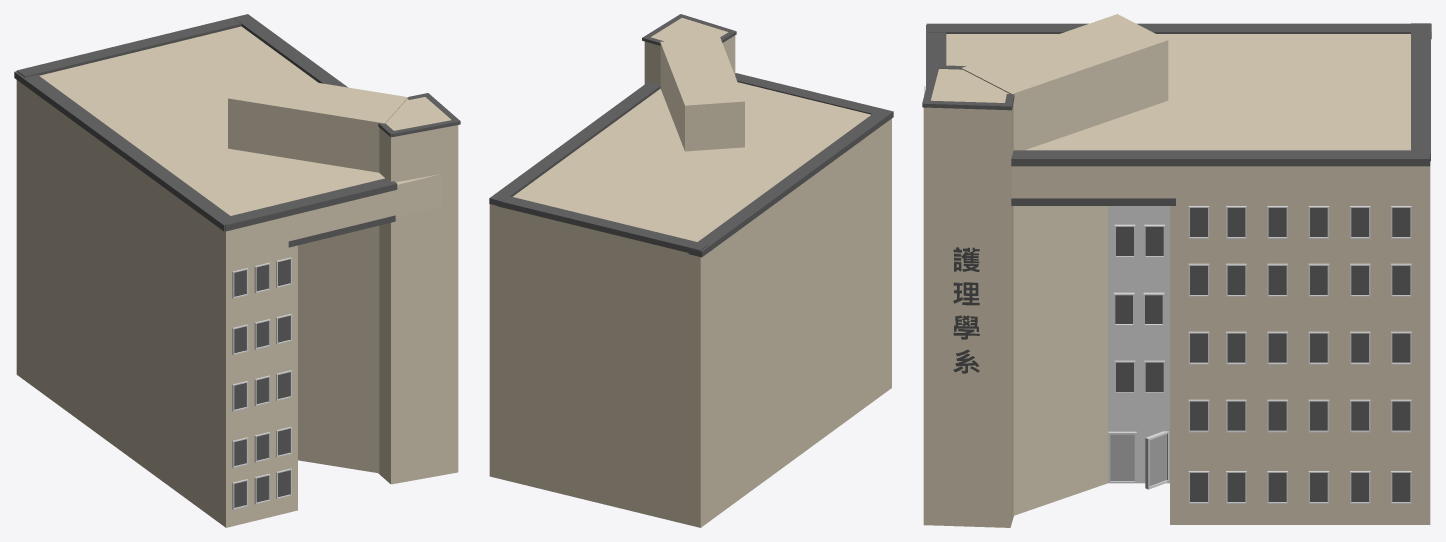
File: 護理系.fbx
The picture shows the model from 3 angles, left to right: view 1: azimuth 30°, elevation 25°; view 2: azimuth 150°, elevation 25°; view 3: azimuth 270°, elevation 25°; orthographic projection. The views are drawn at different scales.
Visible parts, largest first — view 1: 立方體.002, 立方體.038, 立方體.036; view 2: 立方體.002, 立方體.038; view 3: 立方體.002, 立方體.038, 立方體, 文字, 立方體.035, 立方體.011, 立方體.012, 立方體.039.
Boxes of the visible parts, x1,y1,x2,y2 form: 立方體.002: [16, 26, 458, 527]; 立方體.038: [14, 14, 397, 231]; 立方體.036: [288, 215, 395, 247]; 立方體.002: [489, 17, 891, 527]; 立方體.038: [489, 73, 893, 257]; 立方體.002: [923, 14, 1430, 527]; 立方體.038: [926, 23, 1431, 166]; 立方體: [1108, 206, 1169, 483]; 文字: [953, 247, 979, 373]; 立方體.035: [1011, 198, 1175, 205]; 立方體.011: [1110, 434, 1134, 480]; 立方體.012: [1149, 434, 1166, 485]; 立方體.039: [922, 100, 1012, 110].
Size of the model in its own units: 889 by 1246 by 1359.
